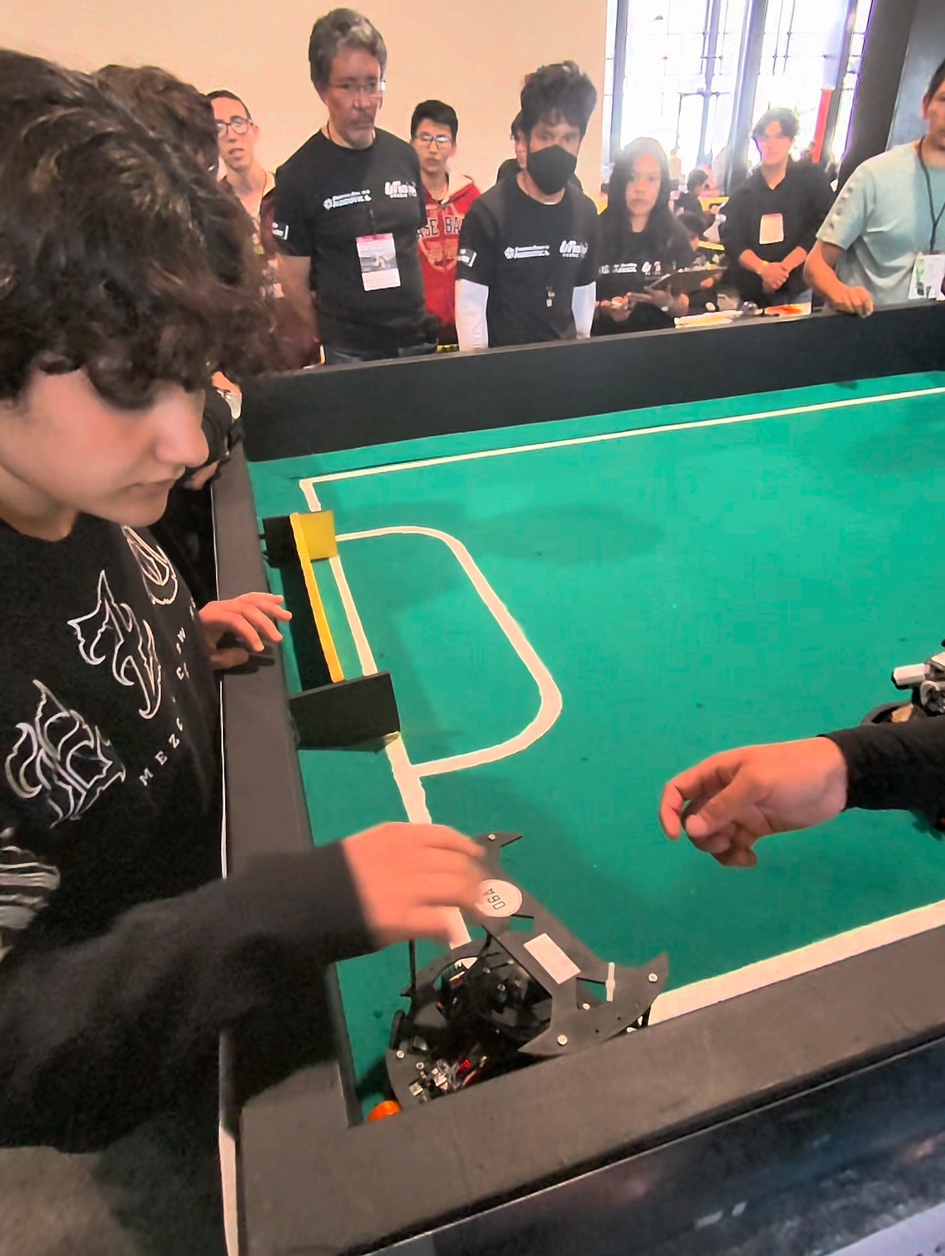Robot: (403, 827, 656, 1093)
